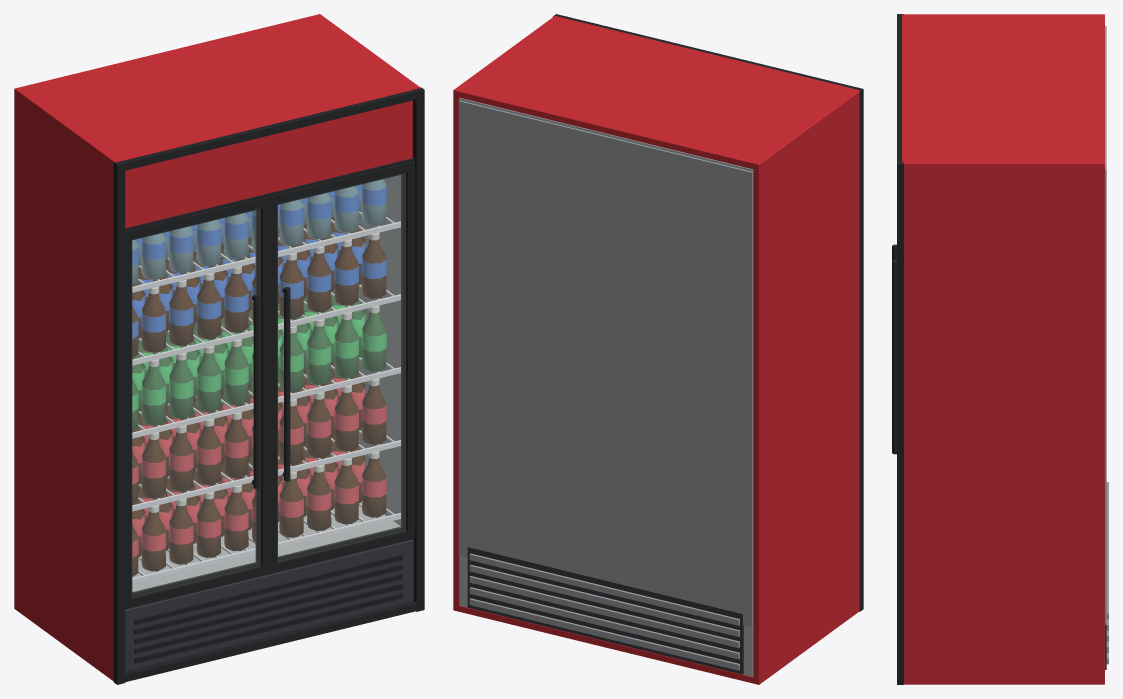
File: two-door-cooler.glb
3 renders of one model, left to right at view 1: azimuth 30°, elevation 25°; view 2: azimuth 150°, elevation 25°; view 3: azimuth 270°, elevation 25°, orthographic.
Parts seen in each view (by area): view 1: CabinetLeftWall, RightDoorGlass, LeftDoorGlass, CabinetTopSlab, HeaderBacklitSign, CompressorLowerFrontFrame, FrontBlackCaseStile_-1, InnerCabinetLiner_1, FrontBlackCaseStile_1, RightDoorFrameRight, LeftDoorFrameRight, FrontBlackCaseRail_0.06 (+66 smaller); view 2: RearGalvanizedSkin, CabinetLeftWall, CabinetTopSlab, RearCompressorRecess, CabinetRightWall, FrontBlackCaseStile_-1, CabinetBottomBase, RearVentLouver_2, RearVentLouver_4, RearVentLouver_1, RearVentLouver_3, RearVentLouver_0 (+2 smaller); view 3: CabinetRightWall, CabinetTopSlab, FrontBlackCaseStile_1, RearGalvanizedSkin, RightDoorHandle, FrontBlackCaseRail_6.45, RearVentLouver_4.
Part boxes in pixels (bbox=[...]): CabinetLeftWall: bbox=[14, 87, 120, 675]; RightDoorGlass: bbox=[277, 173, 405, 561]; LeftDoorGlass: bbox=[132, 208, 260, 596]; CabinetTopSlab: bbox=[14, 14, 420, 164]; HeaderBacklitSign: bbox=[125, 100, 412, 228]; CompressorLowerFrontFrame: bbox=[125, 539, 413, 671]; FrontBlackCaseStile_-1: bbox=[113, 161, 125, 684]; InnerCabinetLiner_1: bbox=[347, 175, 400, 526]; FrontBlackCaseStile_1: bbox=[413, 87, 424, 611]; RightDoorFrameRight: bbox=[405, 169, 415, 532]; LeftDoorFrameRight: bbox=[260, 205, 270, 567]; FrontBlackCaseRail_0.06: bbox=[124, 601, 417, 682]; RearGalvanizedSkin: bbox=[458, 100, 753, 627]; CabinetLeftWall: bbox=[753, 89, 859, 684]; CabinetTopSlab: bbox=[453, 16, 859, 170]; RearCompressorRecess: bbox=[467, 547, 743, 674]; CabinetRightWall: bbox=[453, 45, 519, 611]; FrontBlackCaseStile_-1: bbox=[854, 87, 863, 611]; CabinetBottomBase: bbox=[455, 605, 859, 684]; RearVentLouver_2: bbox=[469, 576, 739, 648]; RearVentLouver_4: bbox=[469, 553, 739, 625]; RearVentLouver_1: bbox=[469, 587, 739, 659]; RearVentLouver_3: bbox=[469, 565, 739, 636]; RearVentLouver_0: bbox=[469, 598, 739, 670]; CabinetRightWall: bbox=[902, 161, 1104, 684]; CabinetTopSlab: bbox=[902, 14, 1104, 169]; FrontBlackCaseStile_1: bbox=[897, 160, 903, 684]; RearGalvanizedSkin: bbox=[1105, 26, 1106, 624]; RightDoorHandle: bbox=[892, 259, 896, 454]; FrontBlackCaseRail_6.45: bbox=[897, 17, 901, 159]; RearVentLouver_4: bbox=[1106, 482, 1108, 619].
Bounding box in the file's own units: 4.02 × 6.5 × 2.45.
